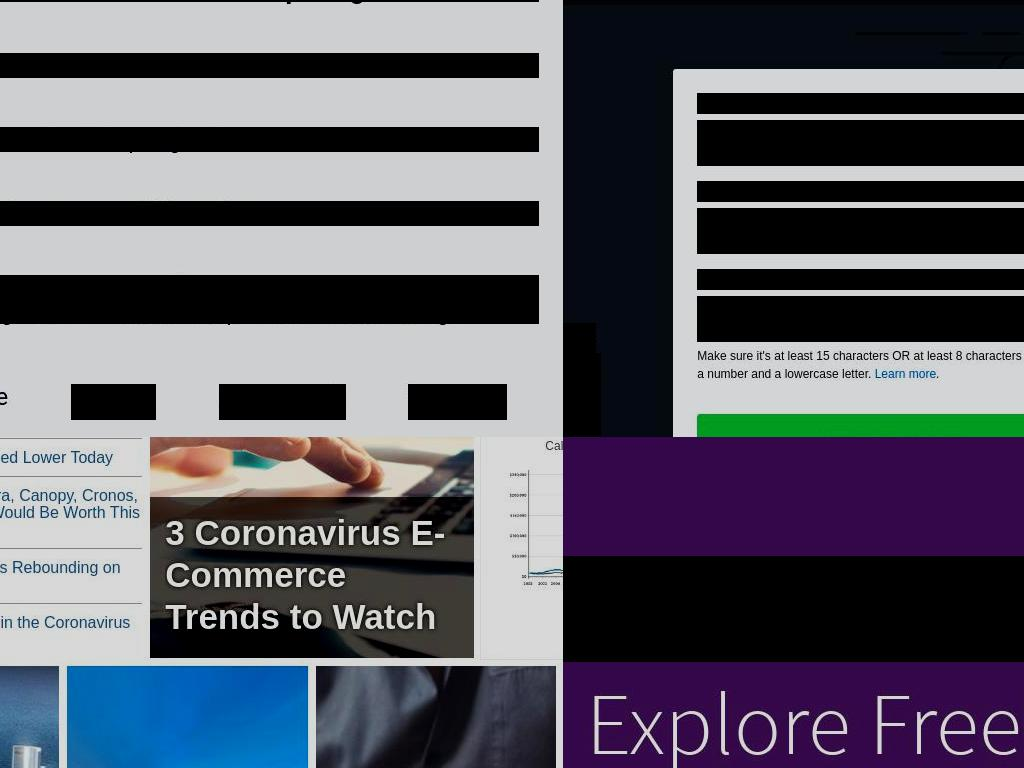button: (150, 437, 474, 658), (315, 666, 557, 768), (67, 666, 308, 768), (0, 477, 143, 548), (0, 549, 143, 603), (0, 604, 143, 658), (697, 414, 1024, 437), (0, 439, 143, 476)
field: (697, 120, 1024, 166), (697, 208, 1024, 254), (697, 296, 1024, 342)
heading: (563, 556, 1024, 662), (586, 669, 1024, 768), (165, 512, 459, 638), (0, 275, 539, 324), (0, 53, 539, 78), (0, 127, 539, 152), (0, 201, 539, 226), (219, 384, 346, 420), (408, 384, 507, 420), (71, 384, 156, 420)
image: (150, 437, 474, 658), (315, 666, 557, 768), (67, 666, 308, 768), (507, 454, 563, 588)
label: (697, 93, 1024, 114), (697, 181, 1024, 202), (697, 269, 1024, 290)
link: (874, 367, 936, 381)
text: (697, 349, 1024, 381), (751, 367, 869, 381), (774, 349, 890, 363), (913, 349, 1022, 363), (697, 349, 775, 363), (888, 349, 914, 363), (868, 367, 876, 381), (936, 367, 940, 381)
